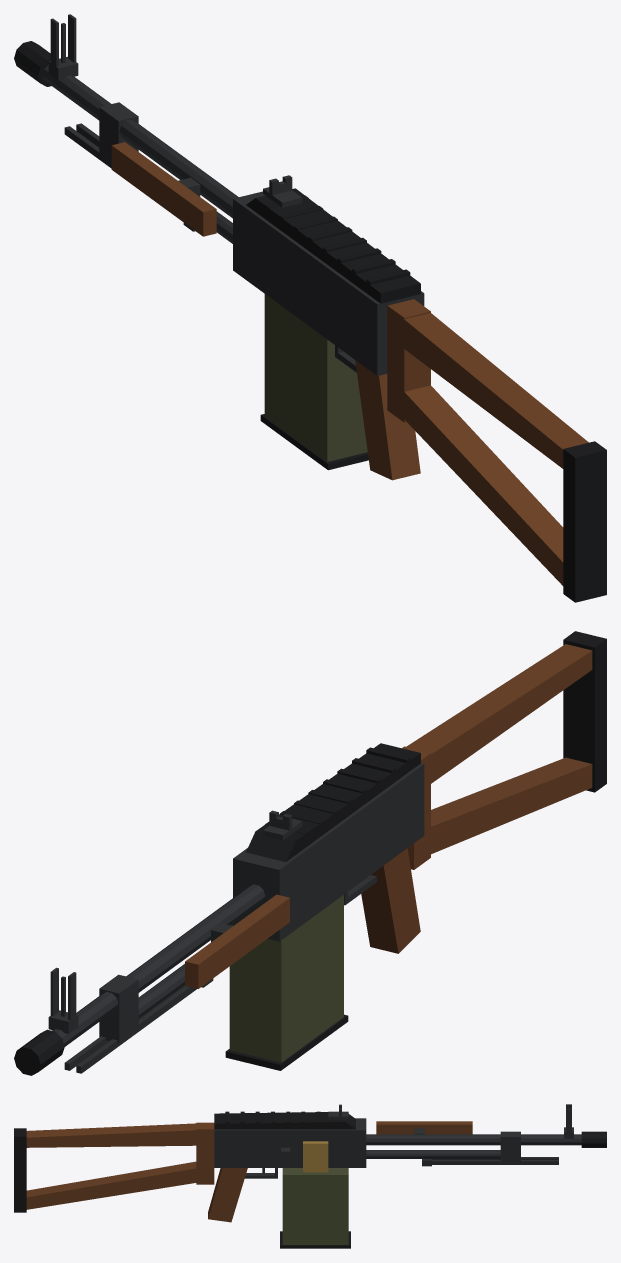
The model's file is pkm.glb.
The picture shows the model from 3 angles, top to bottom: view 1: azimuth 30°, elevation 25°; view 2: azimuth 150°, elevation 25°; view 3: azimuth 270°, elevation 25°; orthographic projection. The views are drawn at different scales.
Parts seen in each view (by area): view 1: pkm; view 2: pkm; view 3: pkm.
Part boxes in pixels (x1,y1,x2,y2): pkm: [14, 14, 606, 602]; pkm: [14, 631, 606, 1075]; pkm: [14, 1104, 606, 1248].
Bounding box in the file's own units: 0.106 × 0.284 × 1.17.
